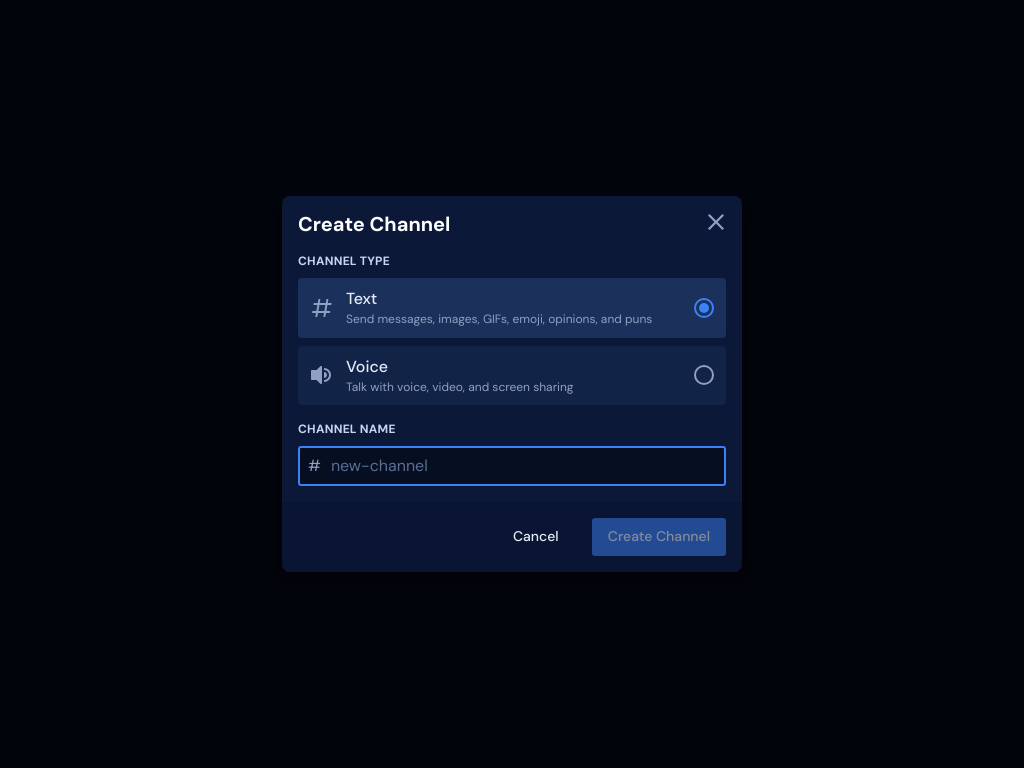
CreateChannelModal › shows error on API failure
Type "general" into the field labelled "CHANNEL NAME". click: (523, 466)
box: [321,446,726,486]
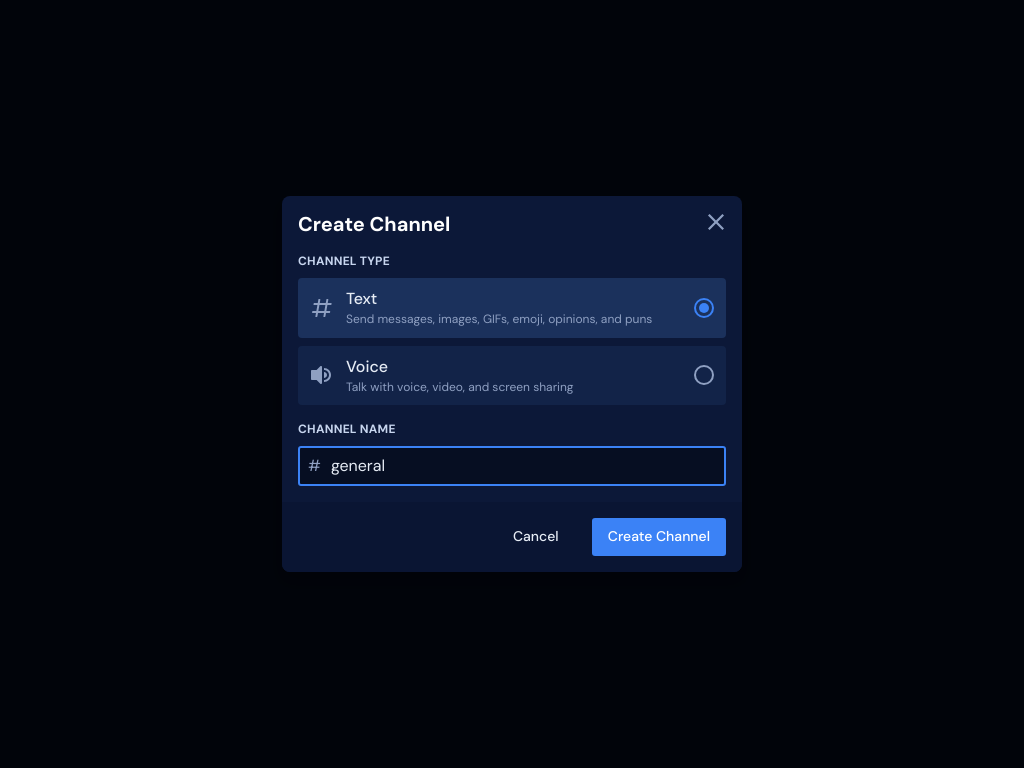
Submit the form named "CHANNEL NAME", box [282,196,742,572]
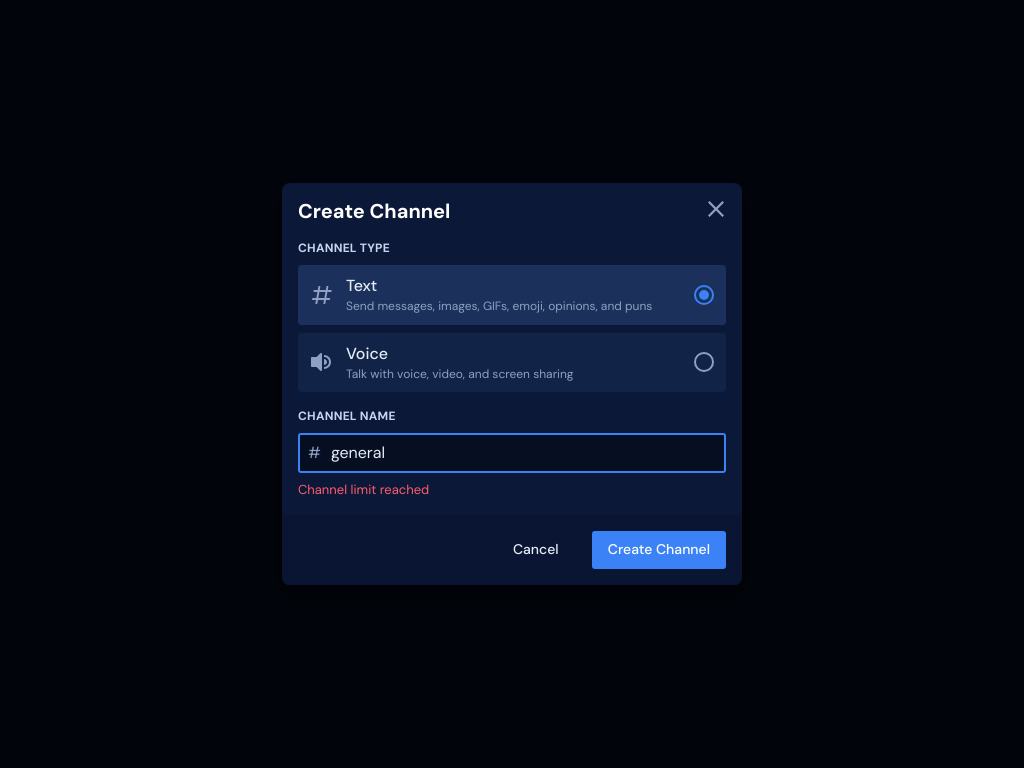
Check: the text "Channel limit reached" is shown, box [298,481,429,498]
